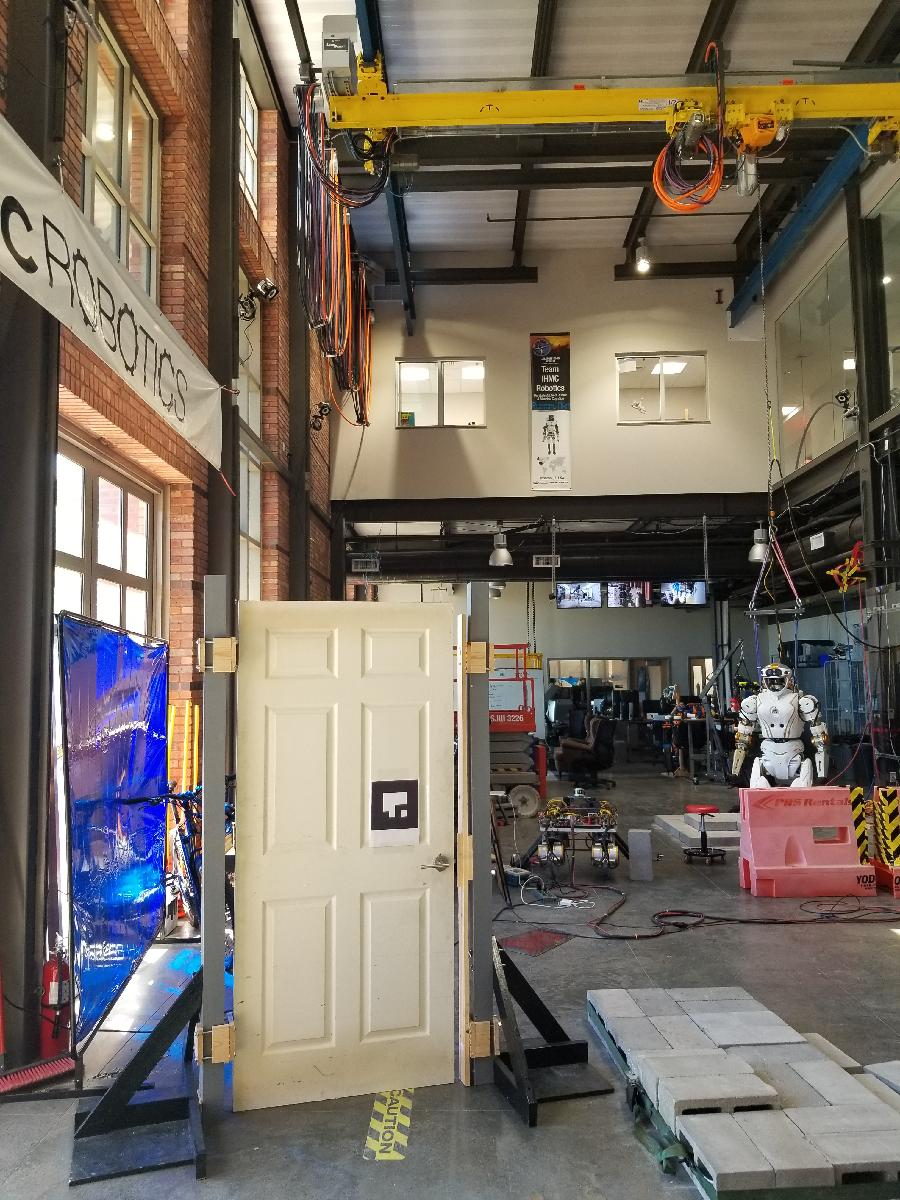door: (232, 593, 462, 1114)
doorHandle: (421, 851, 455, 881)
